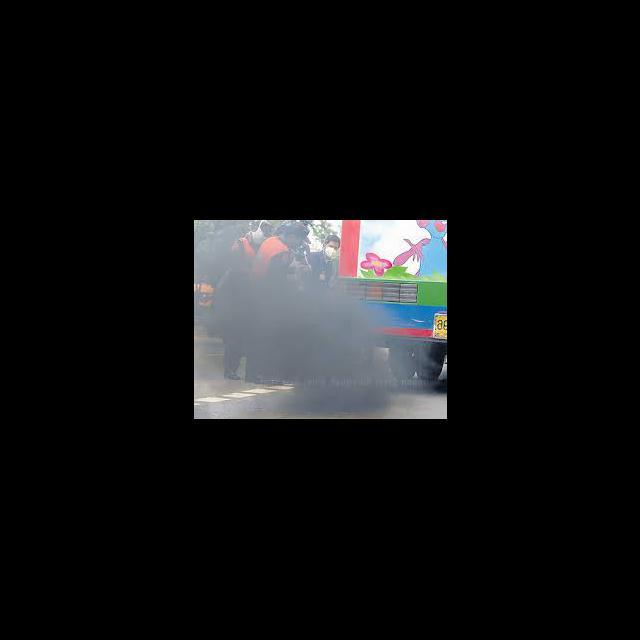Smoke: (291, 301, 384, 374), (245, 284, 287, 364), (291, 388, 390, 413)
